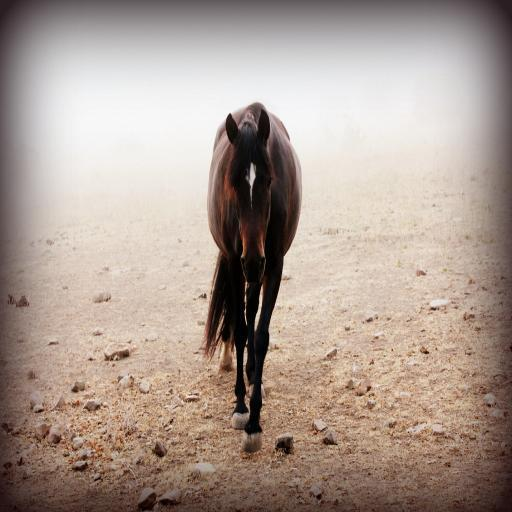horse: (198, 102, 302, 452)
